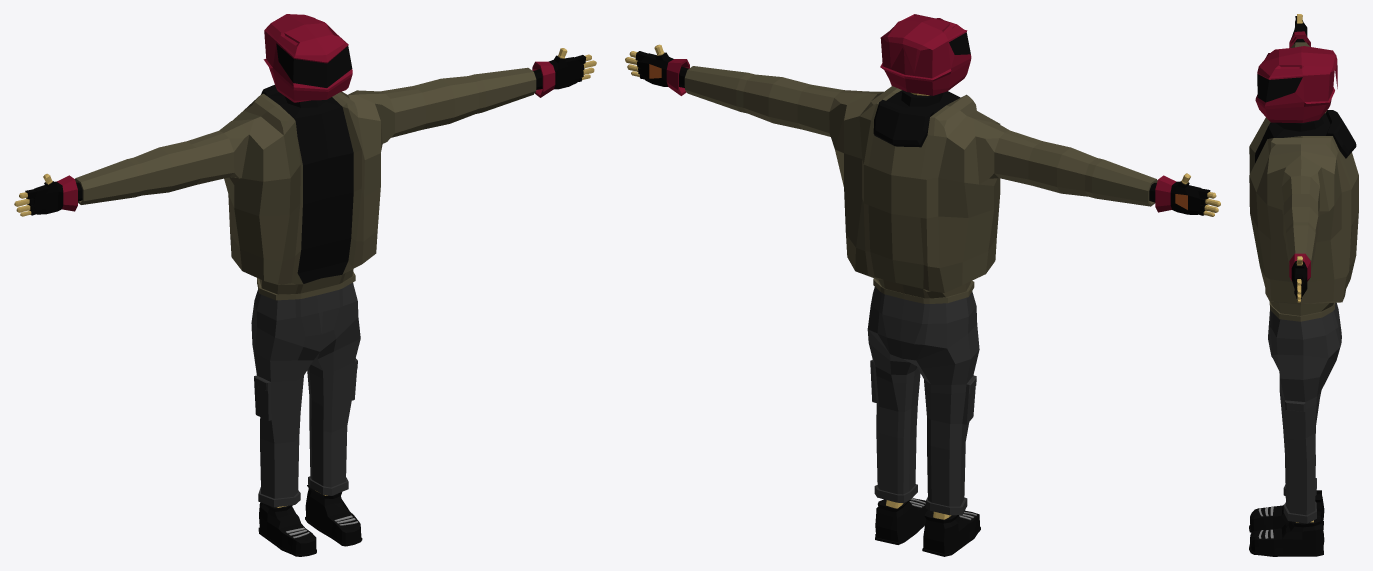
The model's file is jack.fbx.
The picture shows the model from 3 angles, left to right: view 1: azimuth 30°, elevation 25°; view 2: azimuth 150°, elevation 25°; view 3: azimuth 270°, elevation 25°; orthographic projection. The views are drawn at different scales.
Parts seen in each view (by area): view 1: Cube; view 2: Cube; view 3: Cube.
Part boxes in pixels (left/top/right/bottom): Cube: left=14, top=14, right=596, bottom=556; Cube: left=625, top=14, right=1220, bottom=556; Cube: left=1249, top=14, right=1358, bottom=556.
Bounding box in the file's own units: 803 × 668 × 137.
